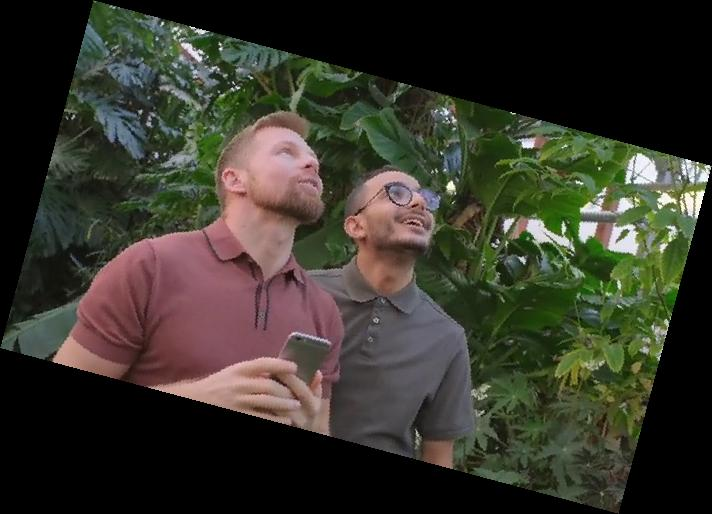phone: (272, 328, 335, 387)
